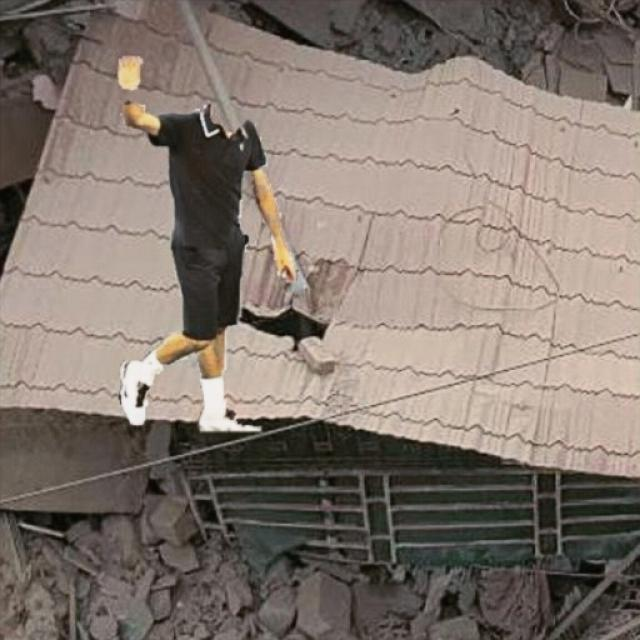Person in Rubble: (118, 56, 298, 430)
